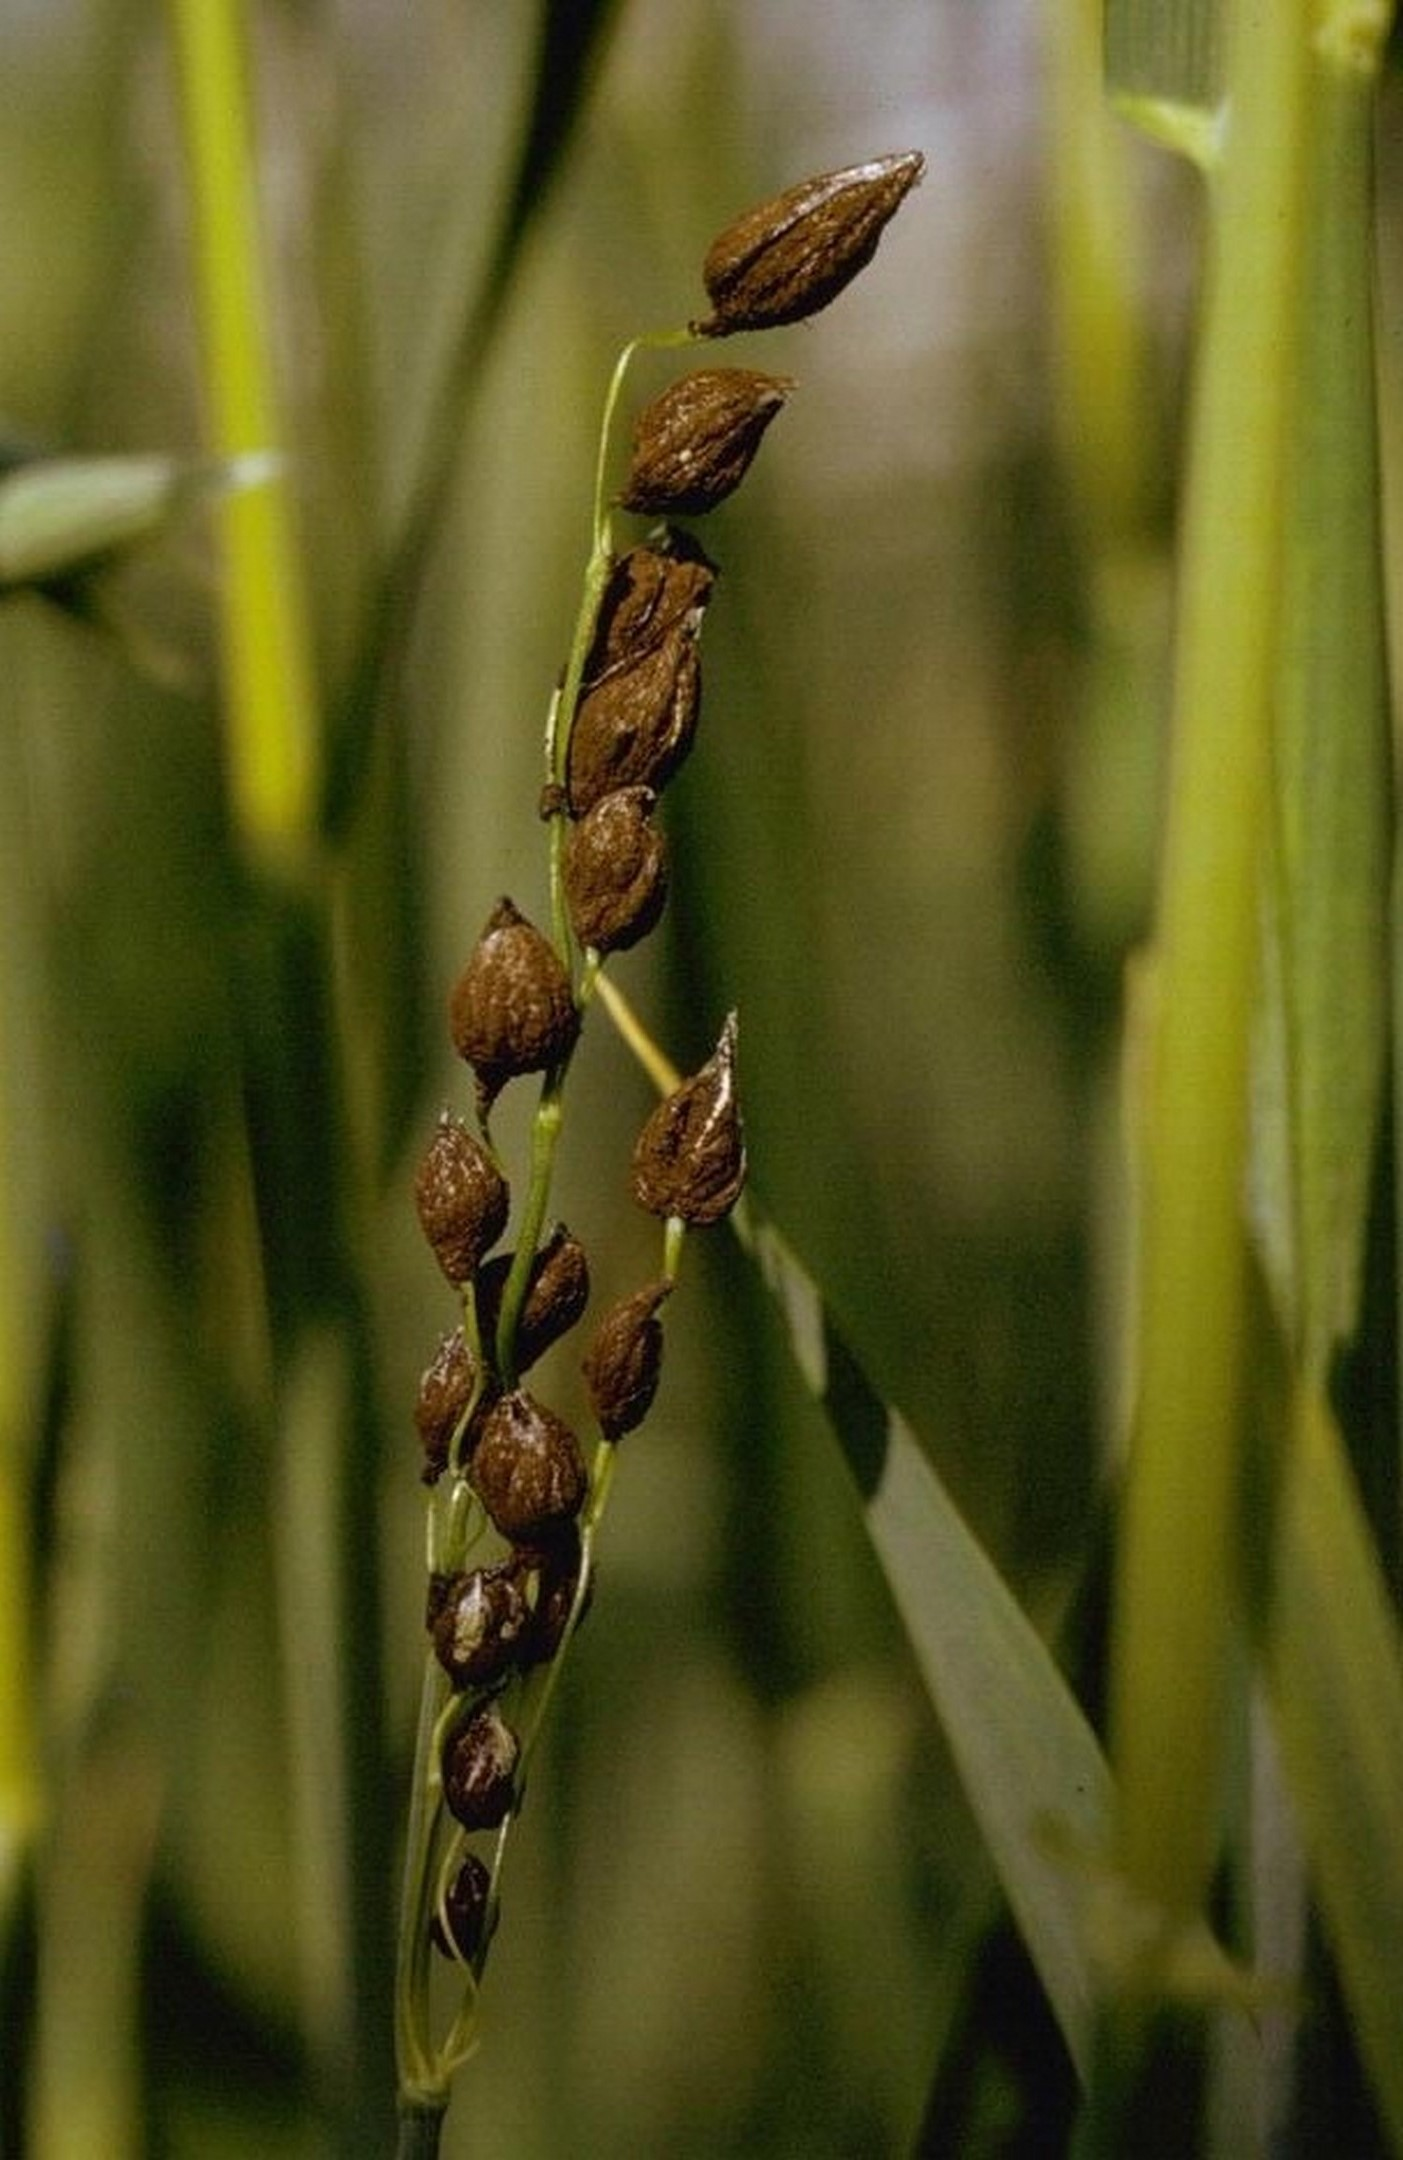Wheat Loose Smut: (339, 115, 893, 1899)
